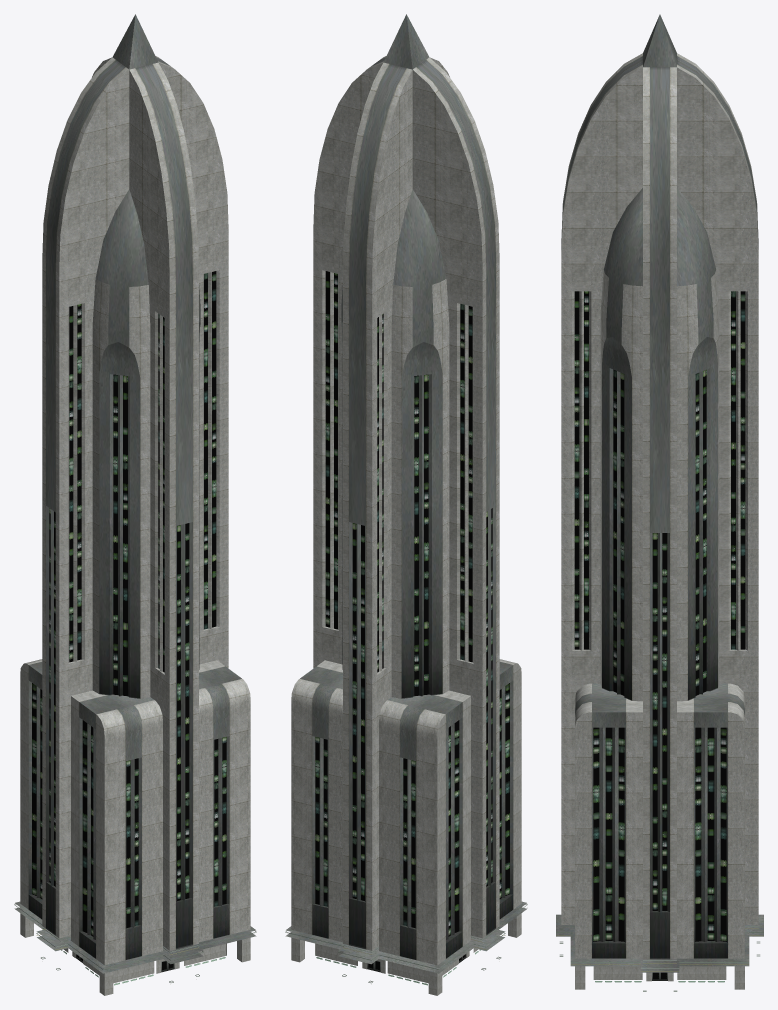
File: thm_corl_skyskraper_s01_l0.fbx
The picture shows the model from 3 angles, left to right: view 1: azimuth 30°, elevation 25°; view 2: azimuth 150°, elevation 25°; view 3: azimuth 270°, elevation 25°; orthographic projection.
Parts seen in each view (by area): view 1: mesh_node; view 2: mesh_node; view 3: mesh_node.
Boxes of the visible parts, box(x1,y1,x2,y2) form: mesh_node: box(14, 14, 256, 995); mesh_node: box(285, 14, 527, 995); mesh_node: box(556, 14, 763, 991).
Size of the model in its own units: 4222 by 21045 by 4222.
